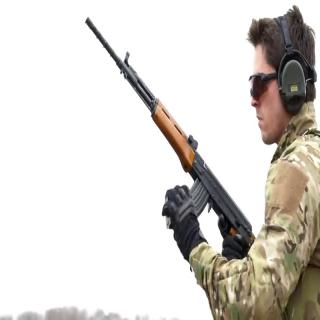gun: (70, 11, 300, 305)
